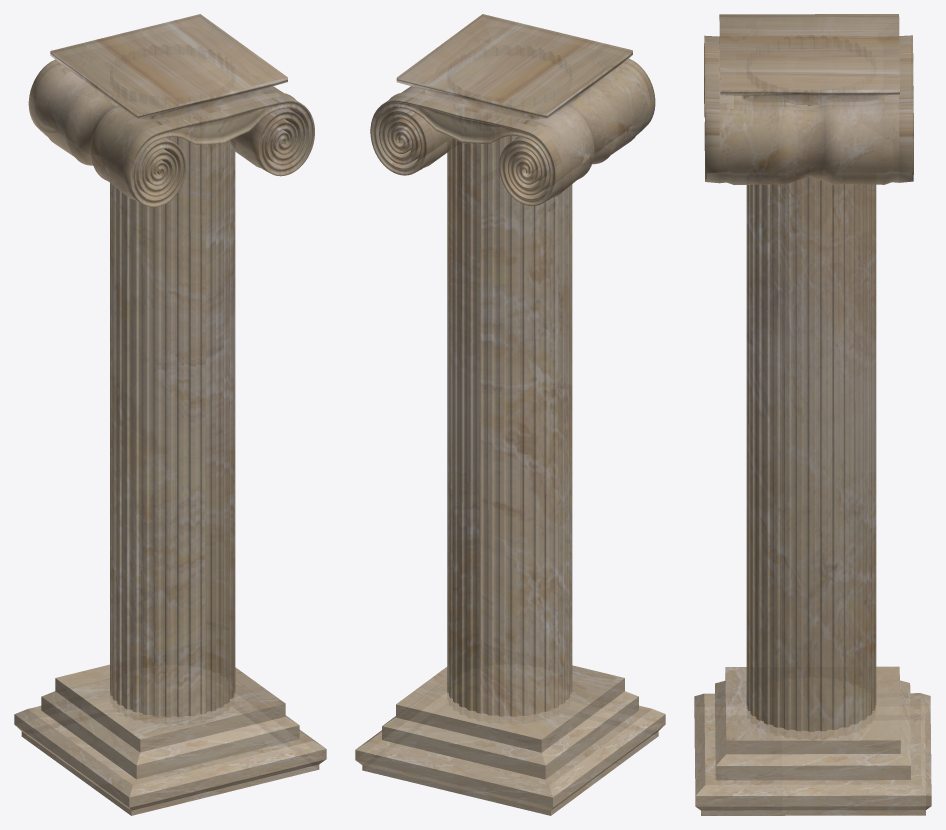
File: pilier.fbx
3 renders of one model, left to right at view 1: azimuth 30°, elevation 25°; view 2: azimuth 150°, elevation 25°; view 3: azimuth 270°, elevation 25°, orthographic. The views are drawn at different scales.
Parts seen in each view (by area): view 1: Pillier; view 2: Pillier; view 3: Pillier.
Part boxes in pixels (<box>): Pillier: <box>14,14,326,815</box>; Pillier: <box>355,14,665,815</box>; Pillier: <box>694,14,931,815</box>.
Bounding box in the file's own units: 75.8 × 252 × 75.8.
1 material, 1 textured.
